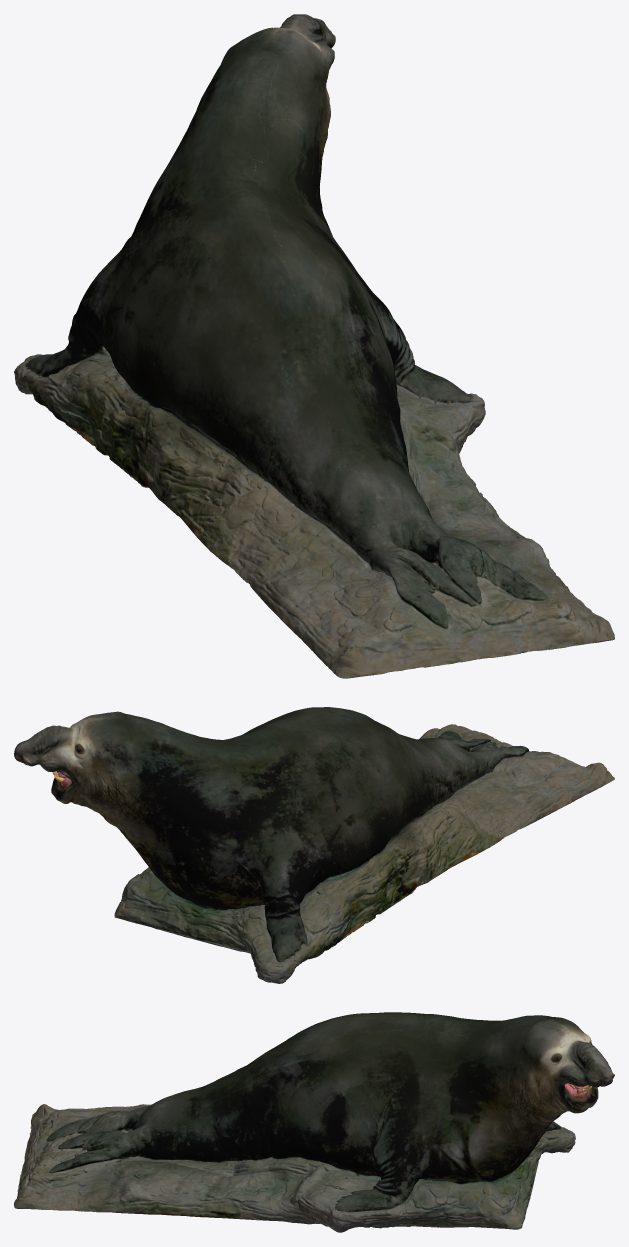
File: elefante_marinho.glb
3 renders of one model, top to bottom at view 1: azimuth 30°, elevation 25°; view 2: azimuth 150°, elevation 25°; view 3: azimuth 270°, elevation 25°, orthographic. The views are drawn at different scales.
Visible parts, largest first — view 1: Object_3, Object_2; view 2: Object_3, Object_2, Object_4; view 3: Object_3, Object_2, Object_4.
Part boxes in pixels (box(x1,y1,x2,y2)): Object_3: box(14, 28, 556, 619); Object_2: box(14, 14, 614, 678); Object_3: box(17, 708, 560, 972); Object_2: box(14, 707, 614, 983); Object_4: box(51, 774, 265, 967); Object_3: box(68, 1012, 613, 1221); Object_2: box(14, 1017, 614, 1232); Object_4: box(472, 1083, 598, 1228).
Size of the model in its own units: 3.41 by 2.42 by 6.45.
1 material, 1 textured.
